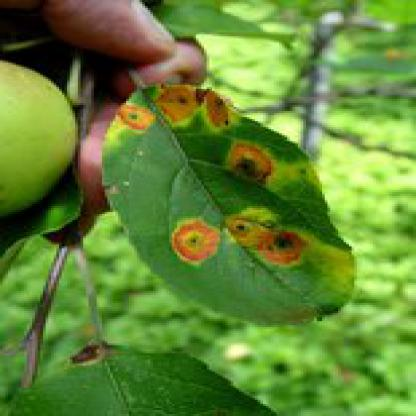Apple rust leaf: (94, 81, 368, 337)
